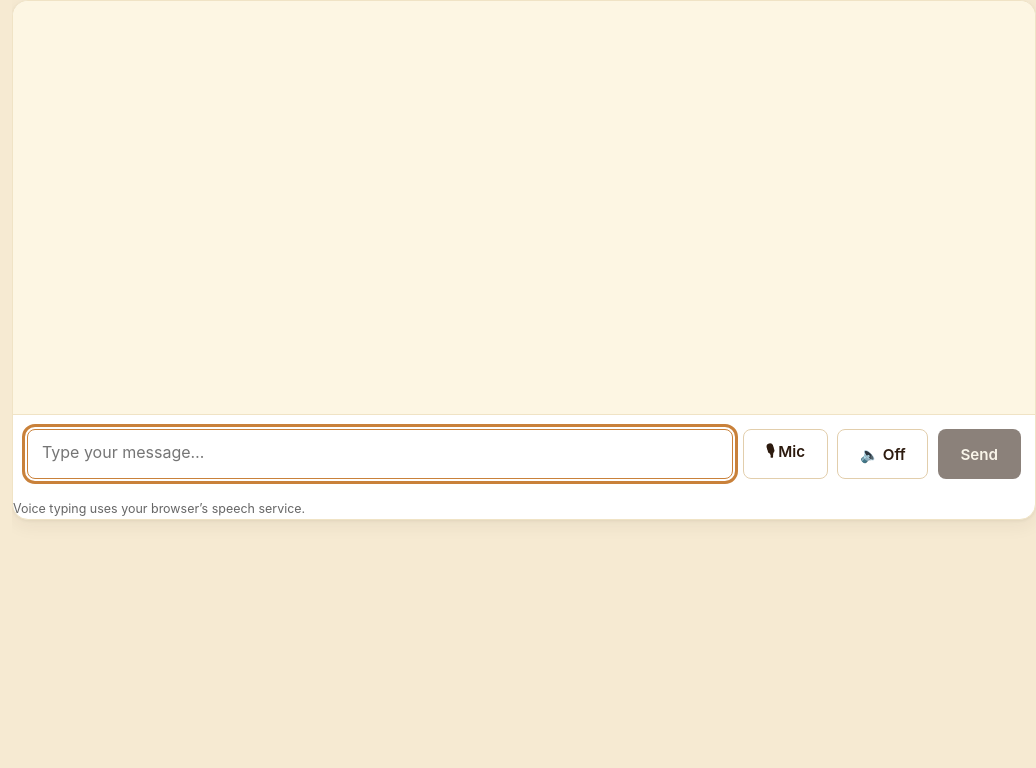
onboarding voice controls › starts Hindi recognition and fills textarea without sending
Click the button with aria-label "voice typing".
click(785, 454)  # box [743, 429, 828, 479]
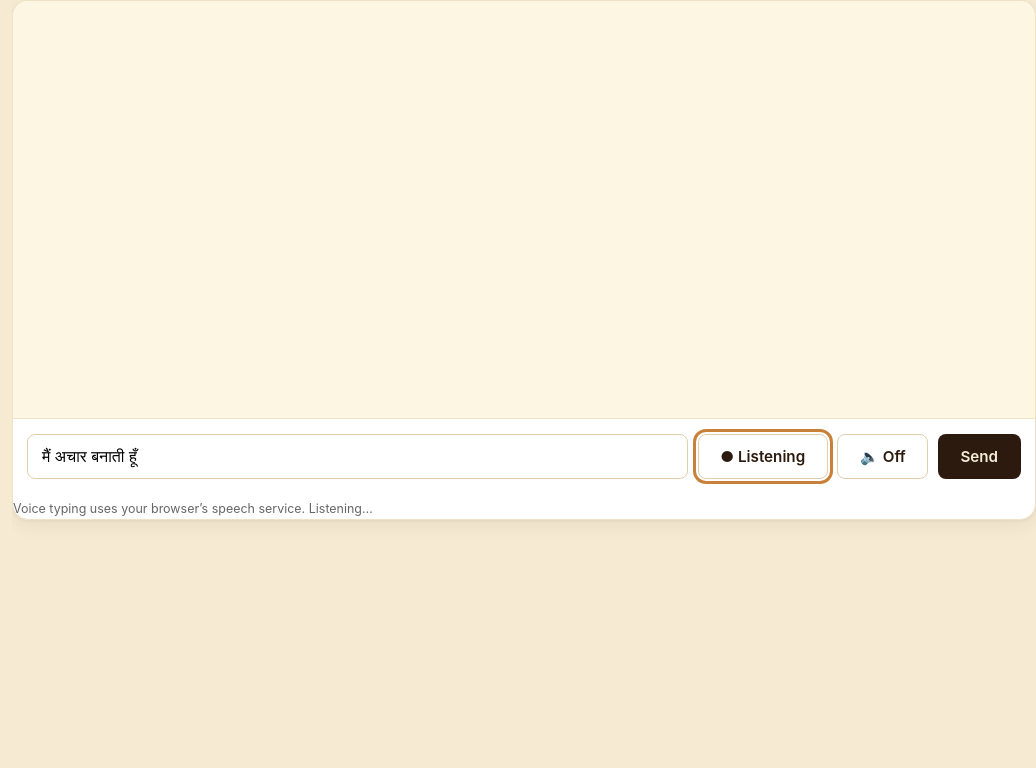
Expected: the text box named "message" holds "मैं अचार बनाती हूँ", [27, 434, 688, 479]
